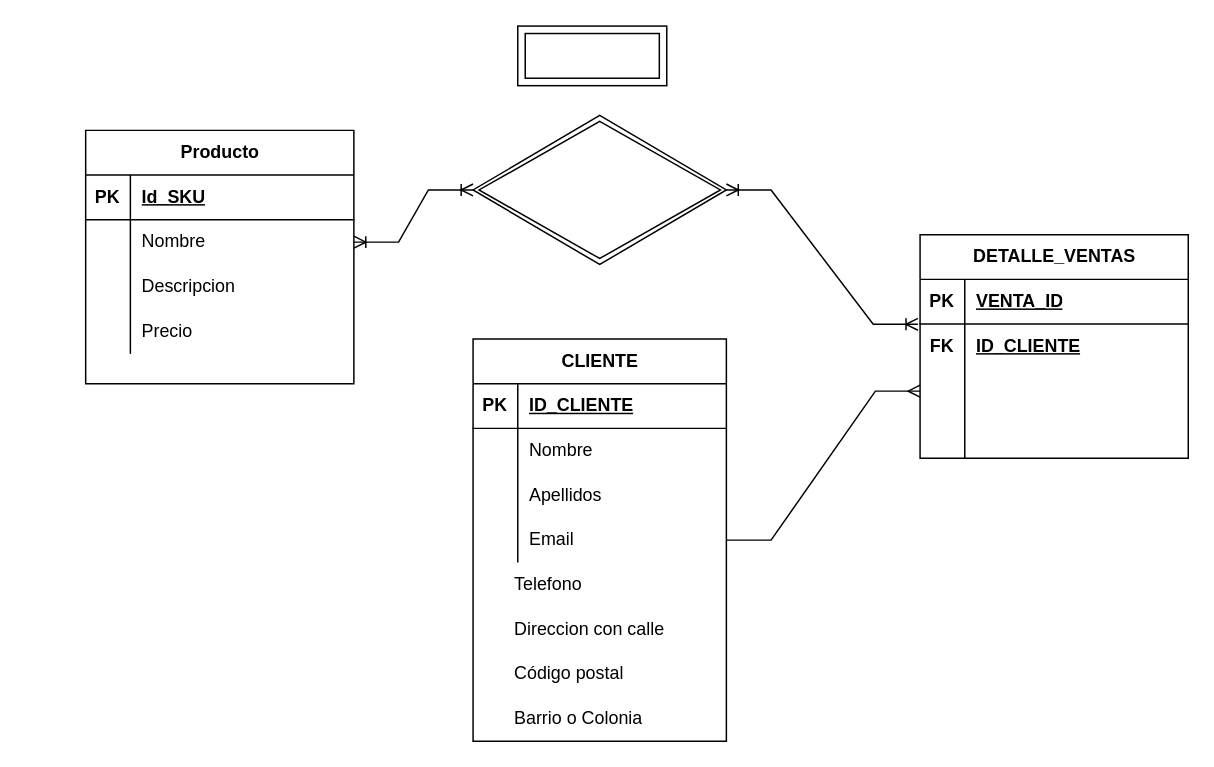
Image size: 1214x767. Some labels were removed from this diagram. The box of each missing label's shape, as (x1, y1, x2, y2) in pixels:
ABARROTES DON RUFINO: (516, 25, 667, 86)
ID_SKU, Venta_ID: (472, 114, 726, 264)
